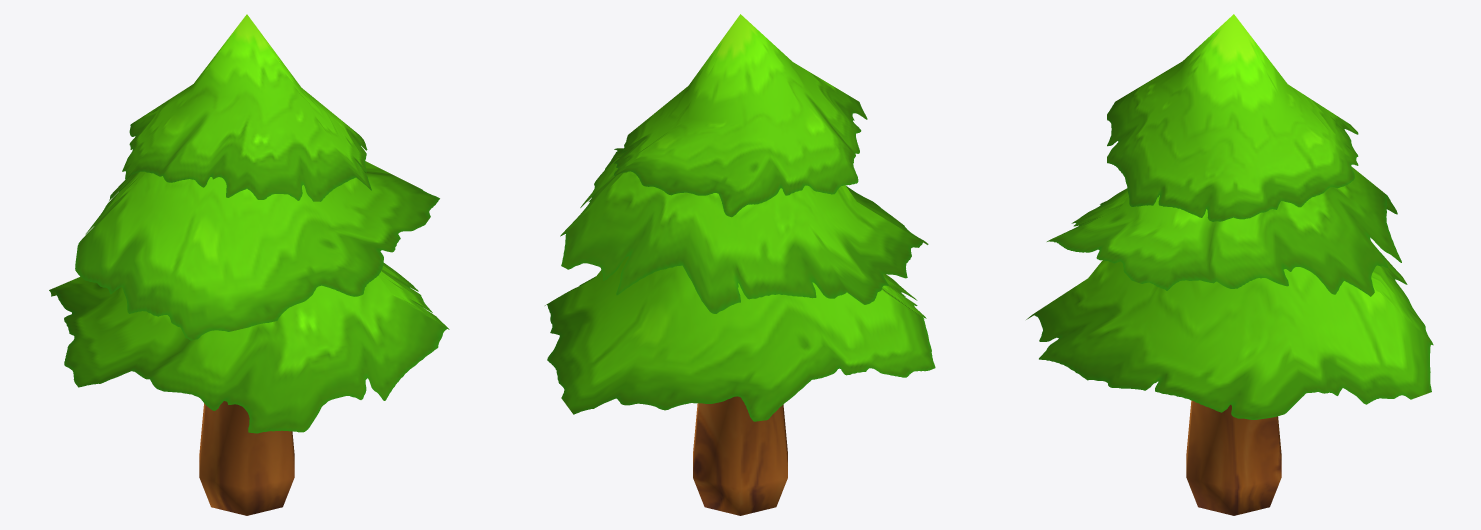
The model's file is tree_01.FBX.
The picture shows the model from 3 angles, left to right: view 1: azimuth 30°, elevation 25°; view 2: azimuth 150°, elevation 25°; view 3: azimuth 270°, elevation 25°; orthographic projection.
Parts seen in each view (by area): view 1: Tree_01; view 2: Tree_01; view 3: Tree_01.
Boxes of the visible parts, x1,y1,x2,y2 form: Tree_01: (49, 14, 449, 515); Tree_01: (545, 14, 935, 515); Tree_01: (1026, 14, 1433, 515).
Bounding box in the file's own units: 99.66 × 122 × 106.
